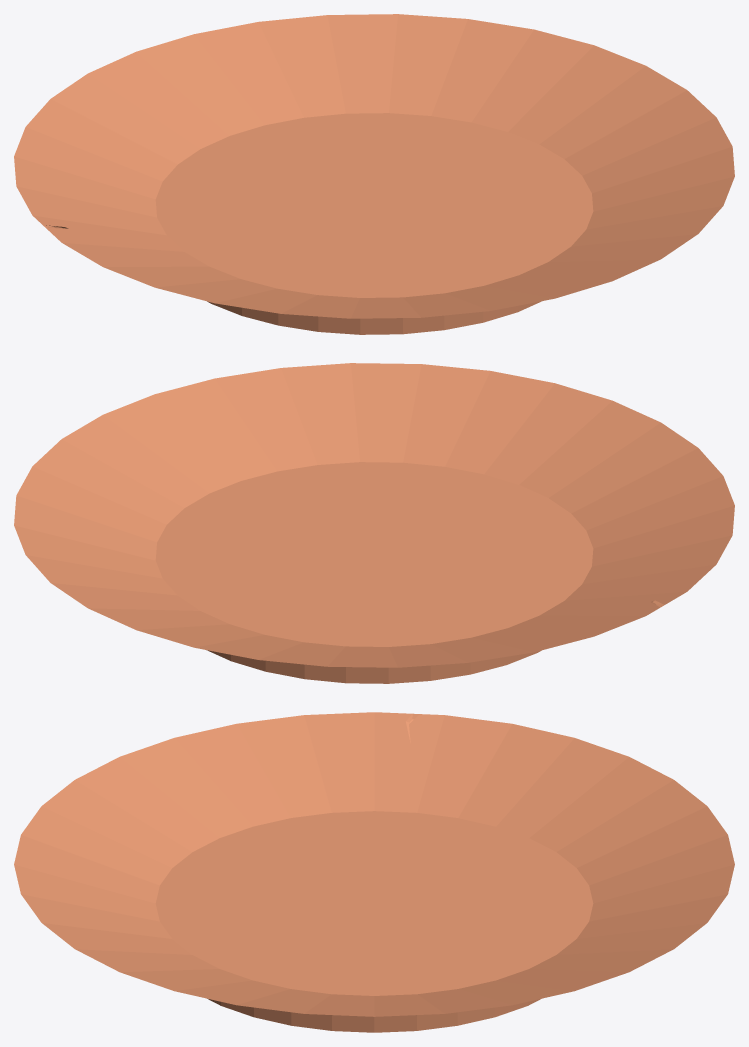
File: Plate.fbx
The picture shows the model from 3 angles, top to bottom: view 1: azimuth 30°, elevation 25°; view 2: azimuth 150°, elevation 25°; view 3: azimuth 270°, elevation 25°; orthographic projection.
Visible parts, largest first — view 1: Cylinder; view 2: Cylinder; view 3: Cylinder.
Part boxes in pixels (<box>): Cylinder: <box>14,14,734,334</box>; Cylinder: <box>14,363,734,683</box>; Cylinder: <box>14,712,734,1032</box>.
Size of the model in its own units: 332 by 38.94 by 332.
